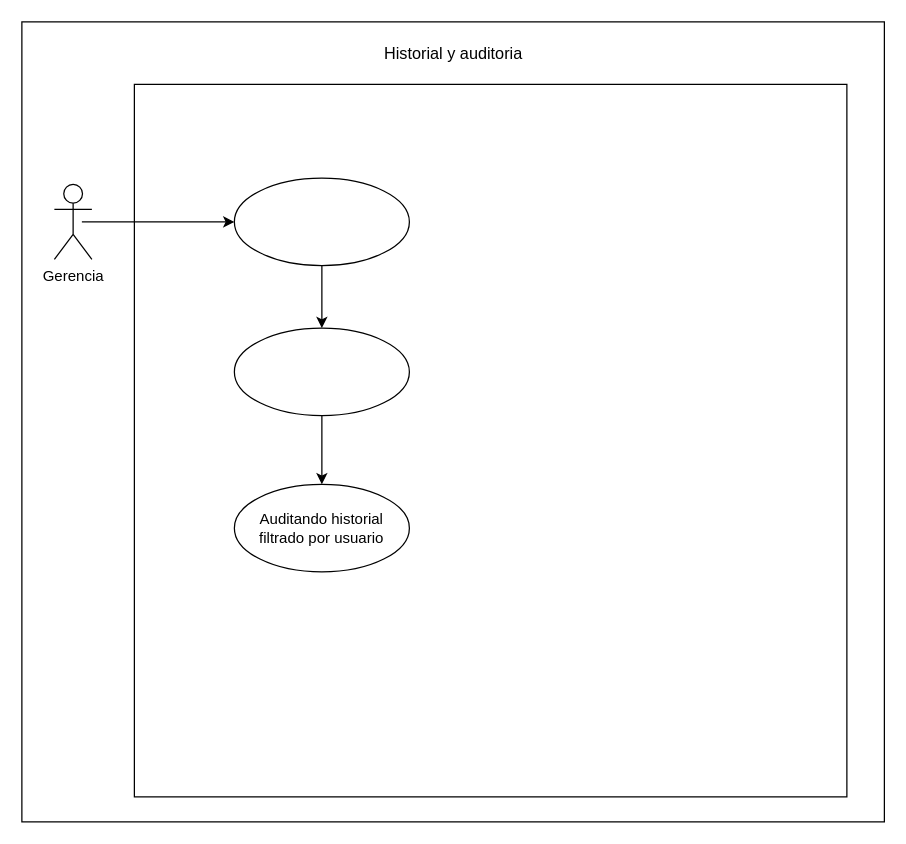
Some shapes in this 906 by 844 pixel diagram are drawn without their labels. Each missing label, with the centre of its shape:
"Consultando historial de movimientos" belongs at [321,221].
"Consultando historial filtrado por producto" belongs at [321,371].
